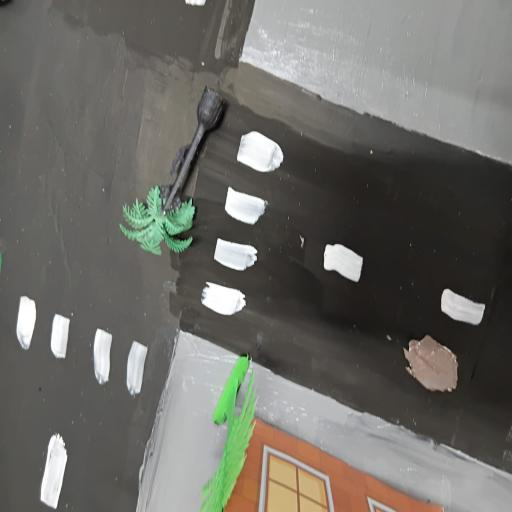cutting down trees: (117, 76, 228, 257)
